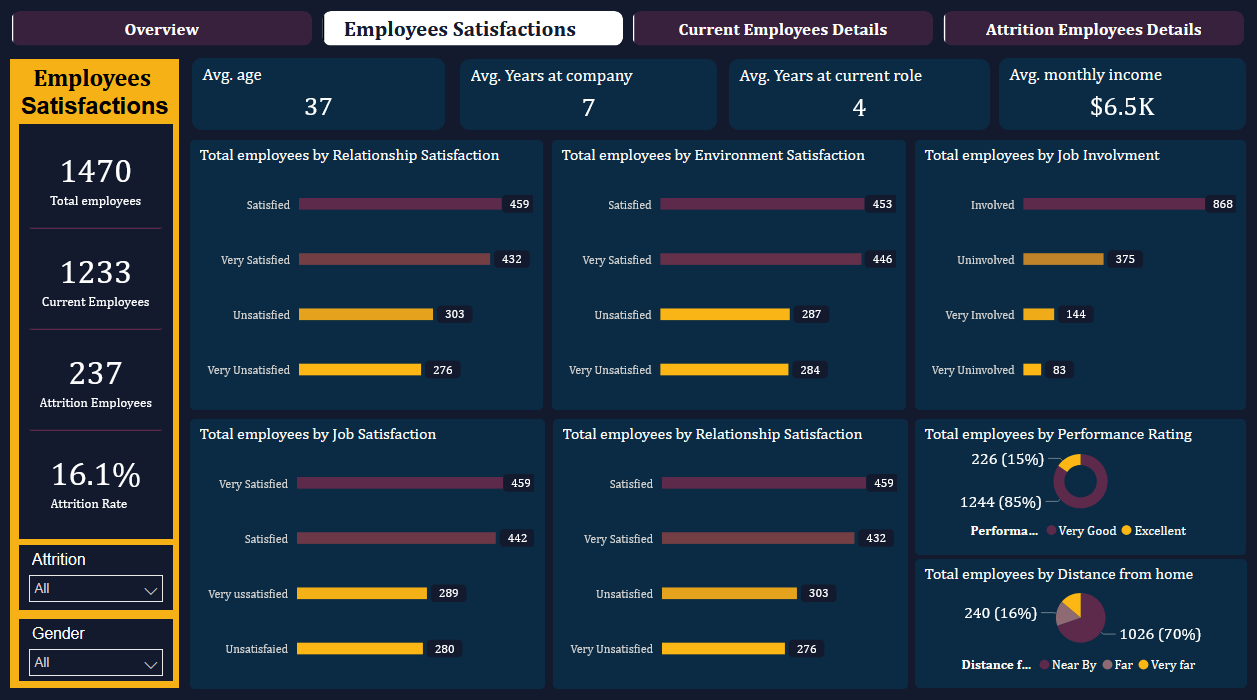

The page's visual inventory and layout, read from the dashboard file:
{"tool":"powerbi","page":{"name":"Employees Satisfactions","canvas":[1280,720],"ordinal":1},"visuals":[{"type":"shape","box":[12.5,63.8,171.2,636.2],"z":0},{"type":"pageNavigator","box":[13.6,14.5,1248.2,35.5],"z":1000},{"type":"textbox","box":[12.7,61.8,170.9,42.7],"z":2000},{"type":"textbox","box":[12.7,90.9,170.9,40.9],"z":3000},{"type":"card","title":"Avg. age","fields":{"Values":["_Measures.Avg. age"]},"box":[195.6,62.2,256.7,73.3],"z":4000},{"type":"card","title":"Avg. Years at company","fields":{"Values":["_Measures.Avg. Years at company"]},"box":[467.8,63.3,260,72.2],"z":5000},{"type":"card","title":"Avg. Years at current role","fields":{"Values":["_Measures.Avg. Years at current role"]},"box":[738.9,63.3,264.4,72.2],"z":6000},{"type":"card","title":"Avg. monthly income","fields":{"Values":["_Measures.Avg. monthly income"]},"box":[1012.2,62.2,250,73.3],"z":7000},{"type":"cardVisual","fields":{"Data":["_Measures.Total employees","_Measures.Current Employees","_Measures.Attrition Employees","_Measures.Attrition Rate"]},"box":[20.9,129.1,155.5,420],"z":8000},{"type":"slicer","fields":{"Values":["HR-Employee-Attrition.Attrition"]},"box":[21.1,555.6,155.6,65.6],"z":9000},{"type":"slicer","fields":{"Values":["HR-Employee-Attrition.Gender"]},"box":[21.1,628.9,155.6,63.3],"z":10000},{"type":"barChart","fields":{"Category":["HR-Employee-Attrition.Job Involvment"],"Y":["_Measures.Total emplyees"]},"box":[927.1,145.6,335.7,272.9],"z":11000},{"type":"barChart","fields":{"Category":["HR-Employee-Attrition.Relationship Satisfaction"],"Y":["_Measures.Total employees"]},"box":[194.3,145.6,357.1,272.9],"z":12000},{"type":"barChart","fields":{"Category":["HR-Employee-Attrition.Environment Satisfaction "],"Y":["_Measures.Total emplyees"]},"box":[560,145.6,358.6,272.9],"z":13000},{"type":"barChart","fields":{"Category":["HR-Employee-Attrition.Job Satisfaction"],"Y":["_Measures.Total emplyees"]},"box":[194.3,427,358.6,272.9],"z":14000},{"type":"barChart","fields":{"Category":["HR-Employee-Attrition.Relationship Satisfaction"],"Y":["_Measures.Total emplyees"]},"box":[561.4,427,358.6,272.9],"z":15000},{"type":"donutChart","fields":{"Y":["_Measures.Total emplyees"],"Category":["HR-Employee-Attrition.Performance Rating "]},"box":[927.1,427,335.7,137.1],"z":16000},{"type":"pieChart","fields":{"Y":["_Measures.Total emplyees"],"Category":["HR-Employee-Attrition.Distance from home"]},"box":[927.3,569.3,336,131.3],"z":17000}]}

Visuals, with their boxes in screenshot pixels (x1, y1, x2, y2), scaled from the page's 1280x720 canvas onto the 1257x700 screenshot:
shape: <bbox>12, 62, 180, 681</bbox>
pageNavigator: <bbox>13, 14, 1239, 49</bbox>
textbox: <bbox>12, 60, 180, 102</bbox>
textbox: <bbox>12, 88, 180, 128</bbox>
"Avg. age" card: <bbox>192, 60, 444, 132</bbox>
"Avg. Years at company" card: <bbox>459, 62, 715, 132</bbox>
"Avg. Years at current role" card: <bbox>726, 62, 985, 132</bbox>
"Avg. monthly income" card: <bbox>994, 60, 1240, 132</bbox>
cardVisual - _Measures.Total employees x _Measures.Current Employees: <bbox>21, 126, 173, 534</bbox>
slicer - HR-Employee-Attrition.Attrition: <bbox>21, 540, 174, 604</bbox>
slicer - HR-Employee-Attrition.Gender: <bbox>21, 611, 174, 673</bbox>
barChart - HR-Employee-Attrition.Job Involvment x _Measures.Total emplyees: <bbox>910, 142, 1240, 407</bbox>
barChart - HR-Employee-Attrition.Relationship Satisfaction x _Measures.Total employees: <bbox>191, 142, 541, 407</bbox>
barChart - HR-Employee-Attrition.Environment Satisfaction  x _Measures.Total emplyees: <bbox>550, 142, 902, 407</bbox>
barChart - HR-Employee-Attrition.Job Satisfaction x _Measures.Total emplyees: <bbox>191, 415, 543, 680</bbox>
barChart - HR-Employee-Attrition.Relationship Satisfaction x _Measures.Total emplyees: <bbox>551, 415, 903, 680</bbox>
donutChart - _Measures.Total emplyees x HR-Employee-Attrition.Performance Rating : <bbox>910, 415, 1240, 548</bbox>
pieChart - _Measures.Total emplyees x HR-Employee-Attrition.Distance from home: <bbox>911, 553, 1241, 681</bbox>
